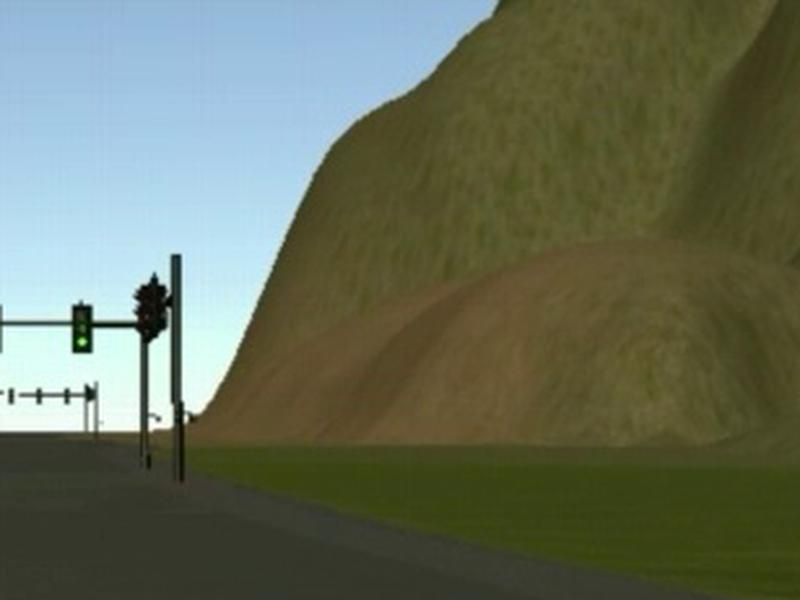Green: (73, 306, 93, 354)
